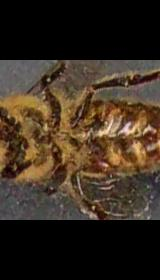varroa_mite: (90, 156, 116, 178)
